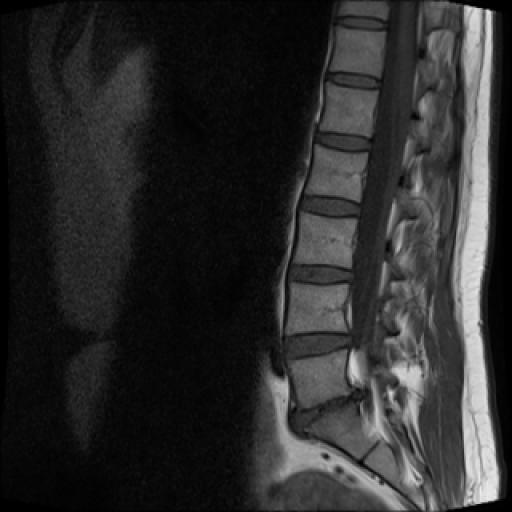L1: (318, 82, 377, 139)
L2: (305, 145, 368, 202)
L3: (293, 212, 357, 268)
L4: (285, 285, 347, 336)
L5: (288, 348, 350, 410)
S1: (304, 400, 381, 460)
